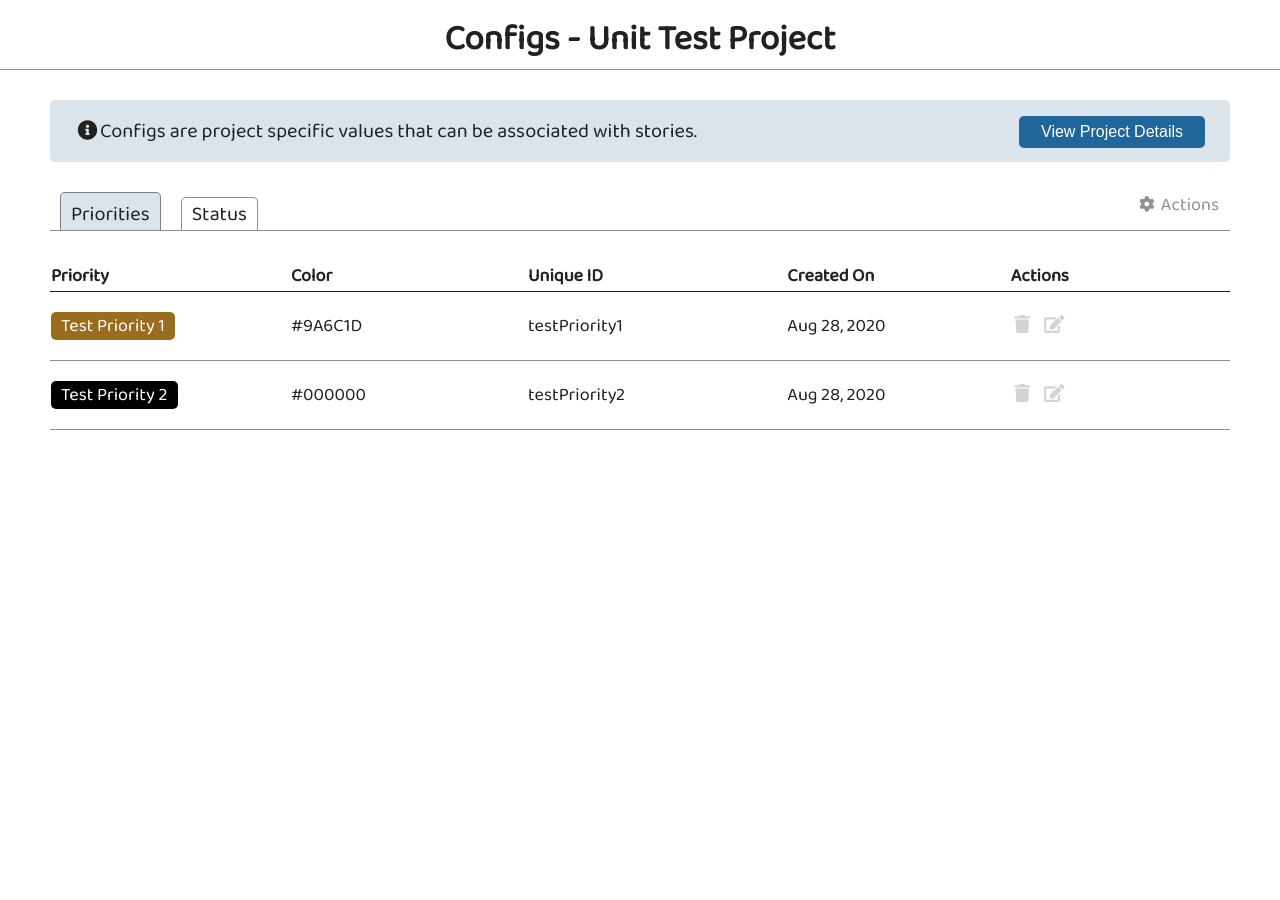
Scenario: <ProjectConfigs /> › should render the ProjectConfigModal on add status action click
The width and height of the screenshot is (1280, 900).
Click the element with test id "projectConfigsActionsMenu": (1178, 205) [1138,191,1219,219]
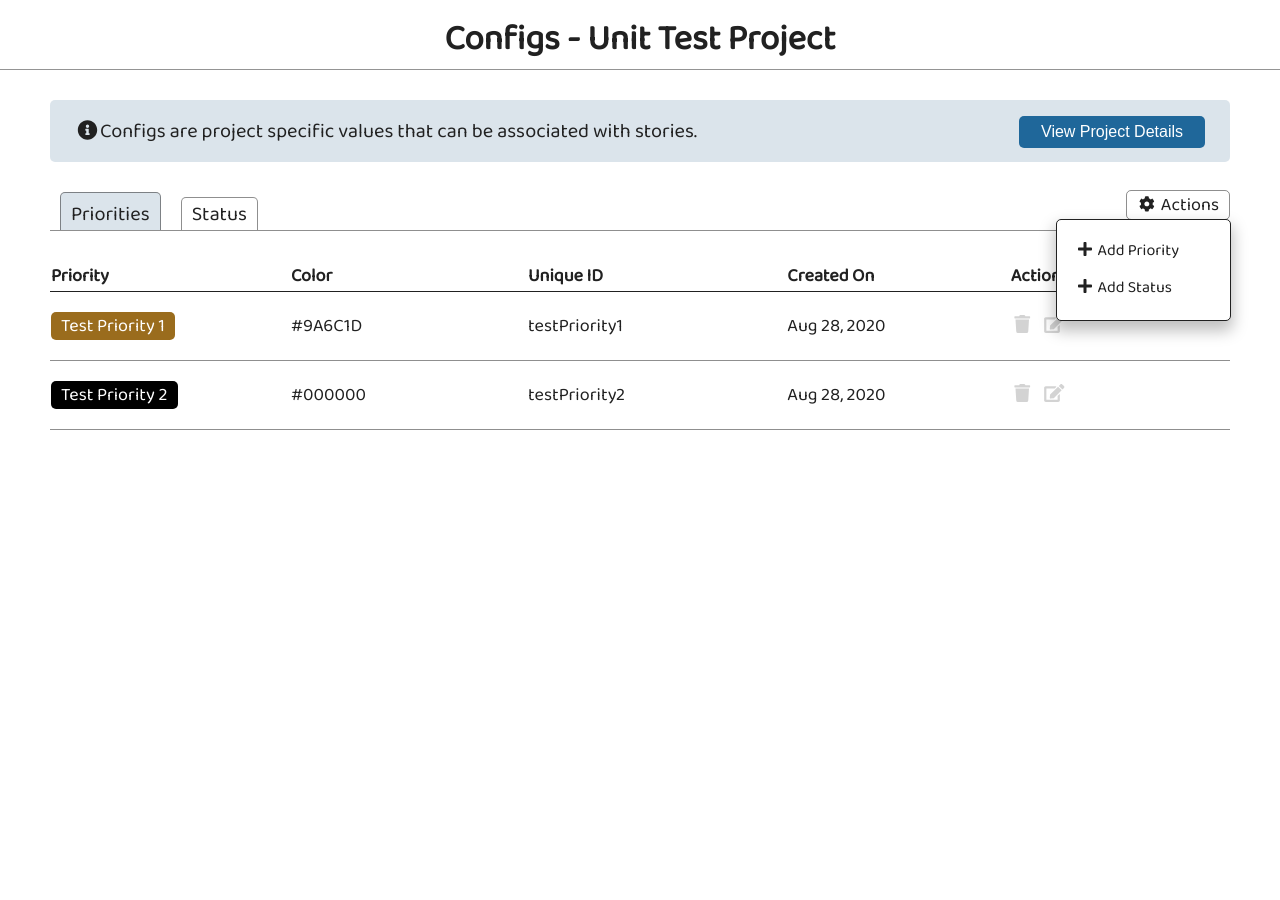
Click the list item "Add Status": (1144, 288) [1062,269,1226,306]
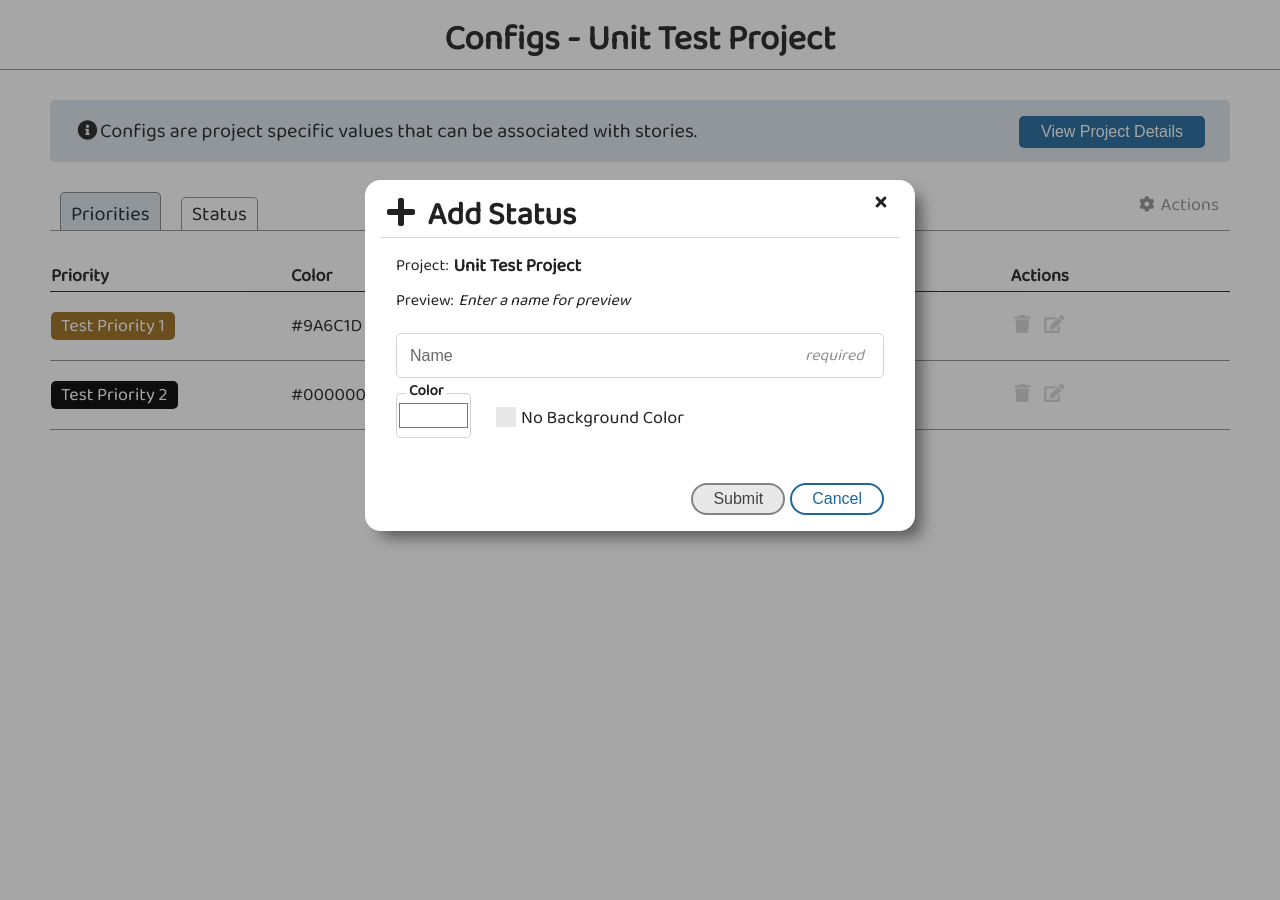
Check: the heading "Add Status" is shown, box [381,190,576,241]
Check: the element with test id "projectConfigModal.wrapper" is shown
